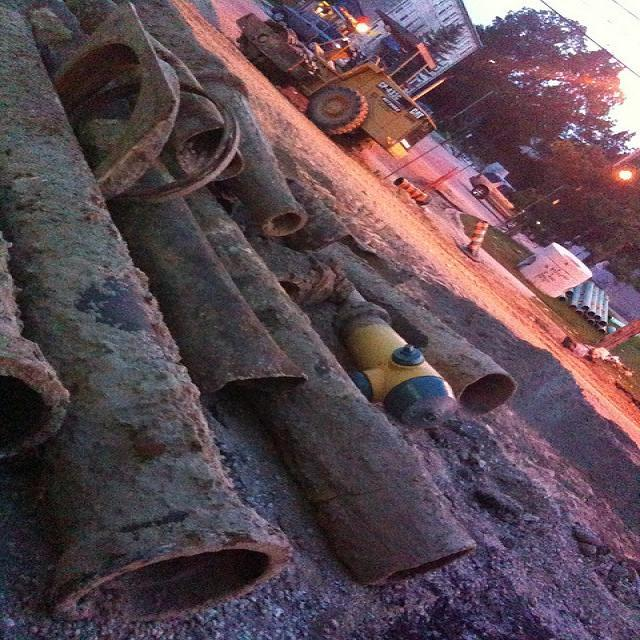fire_hydrant: (310, 271, 460, 430)
